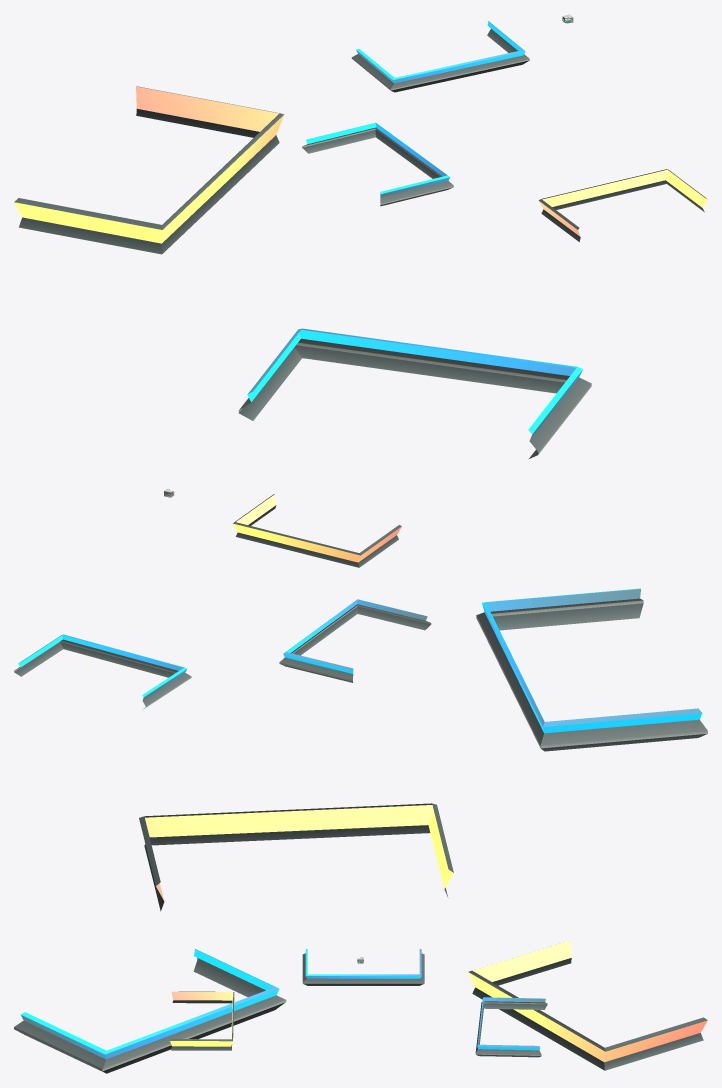
File: Cyberpunk_Scene.glb
3 renders of one model, top to bottom at view 1: azimuth 30°, elevation 25°; view 2: azimuth 150°, elevation 25°; view 3: azimuth 270°, elevation 25°, orthographic. The views are drawn at different scales.
Visible parts, largest first — view 1: Building 1.003, Building 1.002, Building 1, Building 1.004, Building 1.001; view 2: Building 1.003, Building 1.002, Building 1.004, Building 1, Building 1.001; view 3: Building 1.003, Building 1.002, Building 1, Building 1.004, Building 1.001.
Boxes of the visible parts, left/top/right/bottom form: Building 1.003: left=238, top=328, right=591, bottom=458; Building 1.002: left=14, top=86, right=284, bottom=254; Building 1: left=302, top=122, right=453, bottom=206; Building 1.004: left=351, top=21, right=529, bottom=92; Building 1.001: left=538, top=169, right=707, bottom=242; Building 1.003: left=476, top=588, right=707, bottom=751; Building 1.002: left=139, top=803, right=453, bottom=911; Building 1.004: left=14, top=634, right=191, bottom=708; Building 1: left=279, top=599, right=431, bottom=682; Building 1.001: left=233, top=494, right=401, bottom=567; Building 1.003: left=14, top=948, right=286, bottom=1073; Building 1.002: left=468, top=940, right=707, bottom=1070; Building 1: left=302, top=949, right=424, bottom=985; Building 1.004: left=475, top=997, right=547, bottom=1057; Building 1.001: left=170, top=991, right=234, bottom=1050.
Size of the model in its own units: 369 by 167 by 601.
2 materials, 2 textured.
